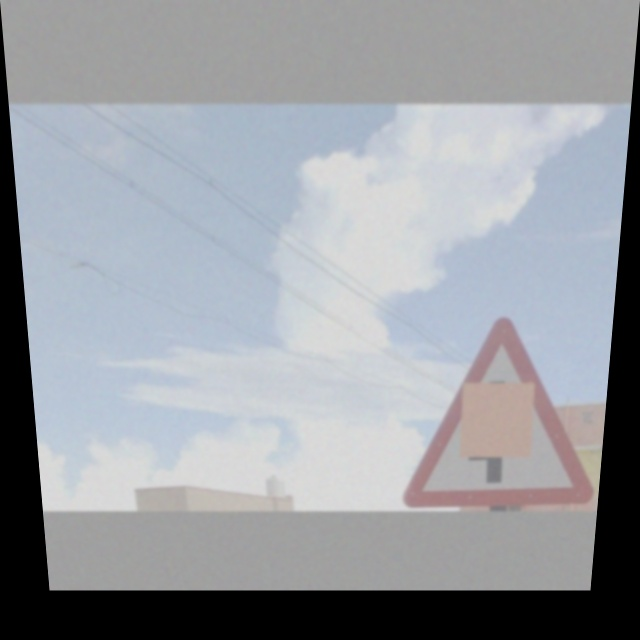Staggered_Intersection: (391, 318, 604, 501)
